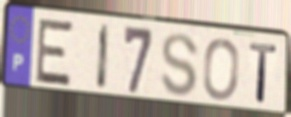7: (123, 23, 155, 97)
E: (33, 17, 75, 89)
I: (95, 21, 112, 94)
O: (201, 36, 241, 103)
S: (159, 31, 201, 100)
T: (248, 41, 279, 106)
